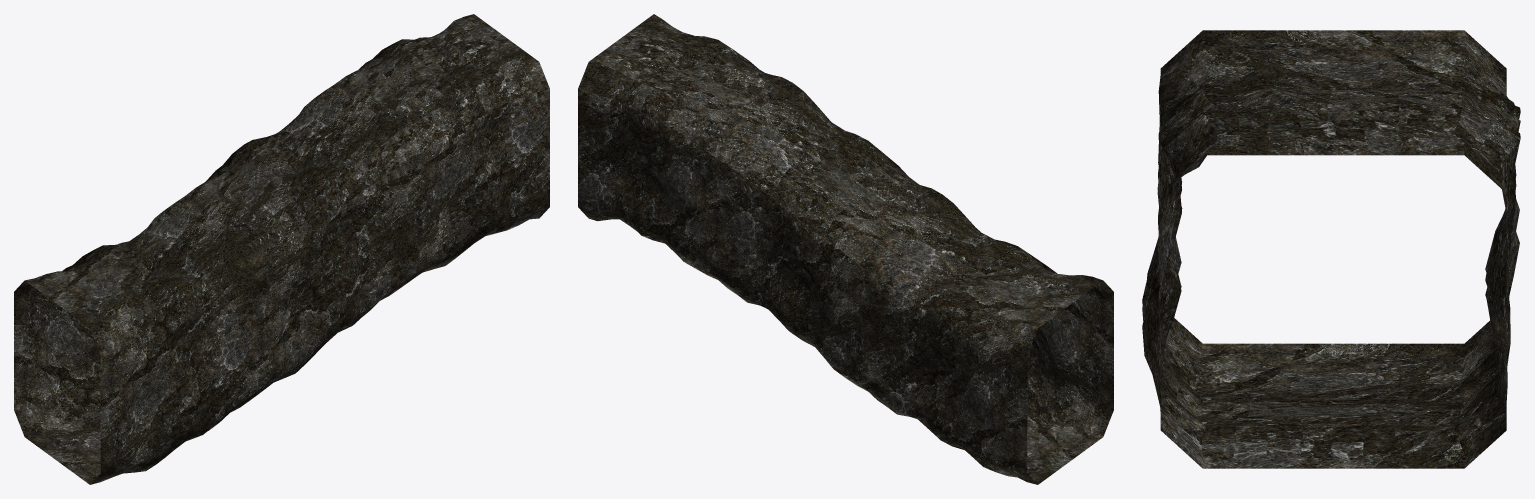
The model's file is Cave_062.fbx.
The picture shows the model from 3 angles, left to right: view 1: azimuth 30°, elevation 25°; view 2: azimuth 150°, elevation 25°; view 3: azimuth 270°, elevation 25°; orthographic projection. The views are drawn at different scales.
Visible parts, largest first — view 1: Cave.062; view 2: Cave.062; view 3: Cave.062.
Part boxes in pixels (x1=…): Cave.062: x1=14, y1=14, x2=549, y2=484; Cave.062: x1=578, y1=14, x2=1113, y2=484; Cave.062: x1=1142, y1=30, x2=1520, y2=468.
Bounding box in the file's own units: 900 × 604 × 328.
